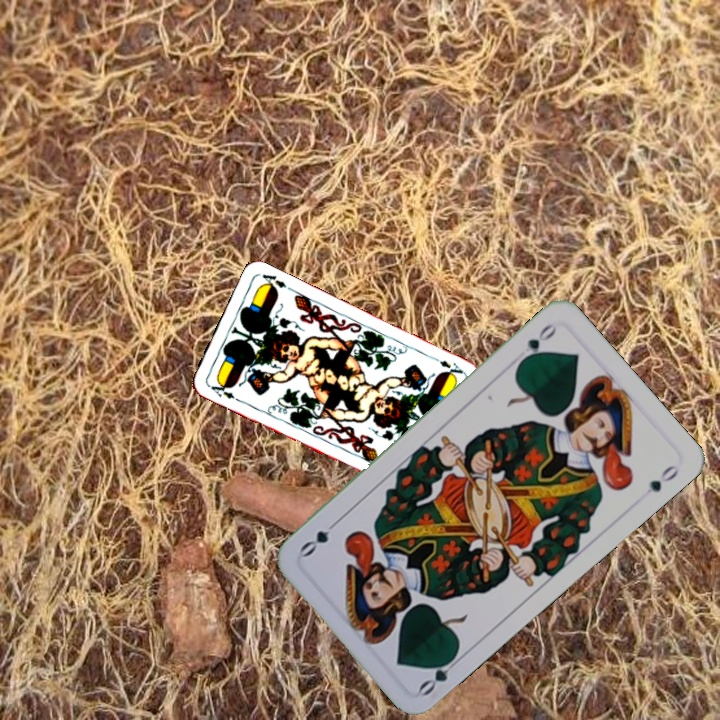EA: (427, 352, 465, 380), (204, 378, 243, 404)
GO: (415, 649, 465, 699), (515, 319, 559, 367)
